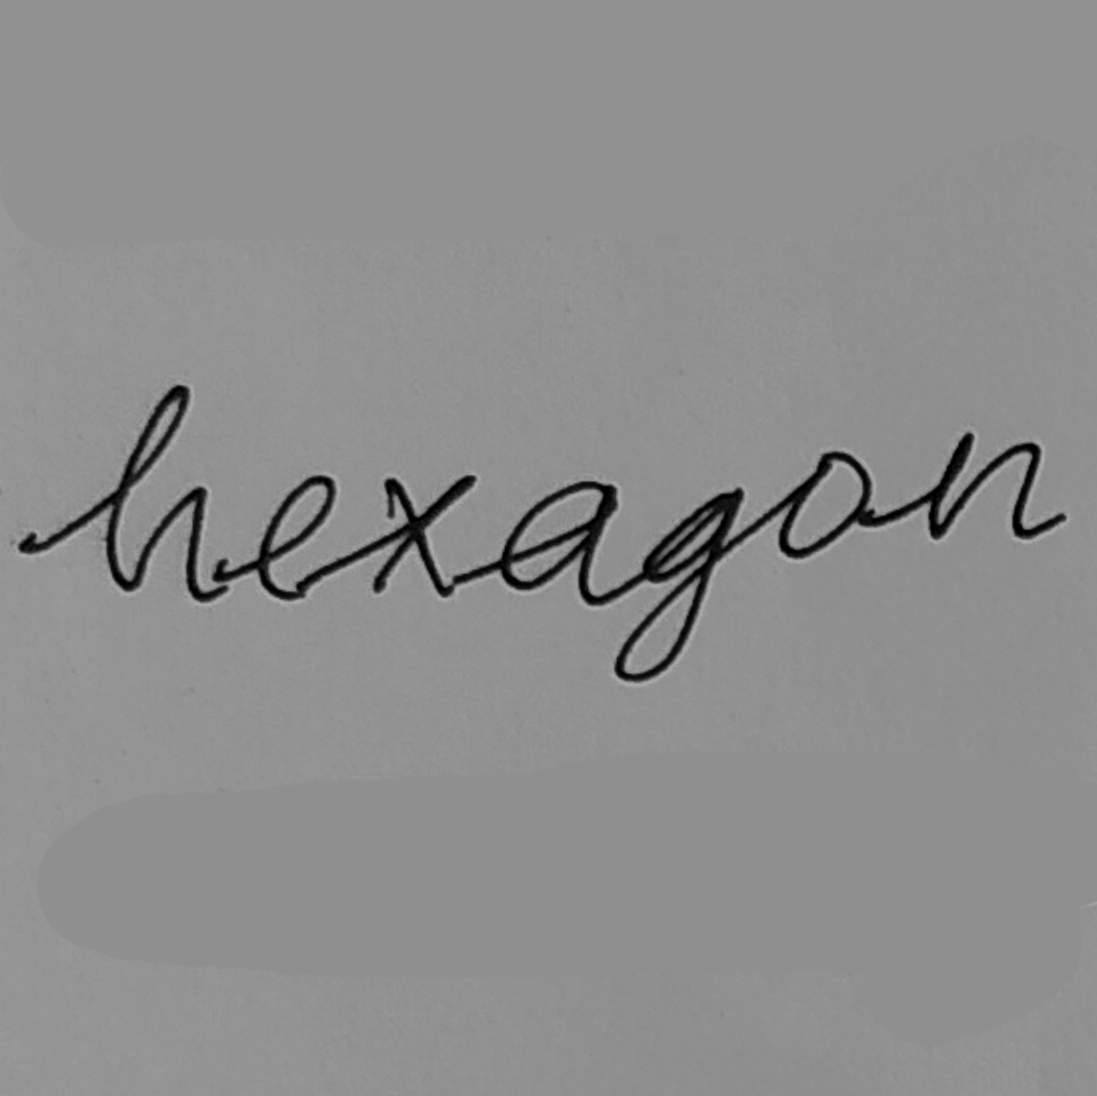a: (497, 478, 620, 605)
e: (251, 472, 343, 607)
g: (611, 485, 750, 687)
h: (99, 382, 227, 604)
n: (925, 428, 1045, 546)
o: (774, 447, 878, 562)
x: (364, 471, 480, 599)
